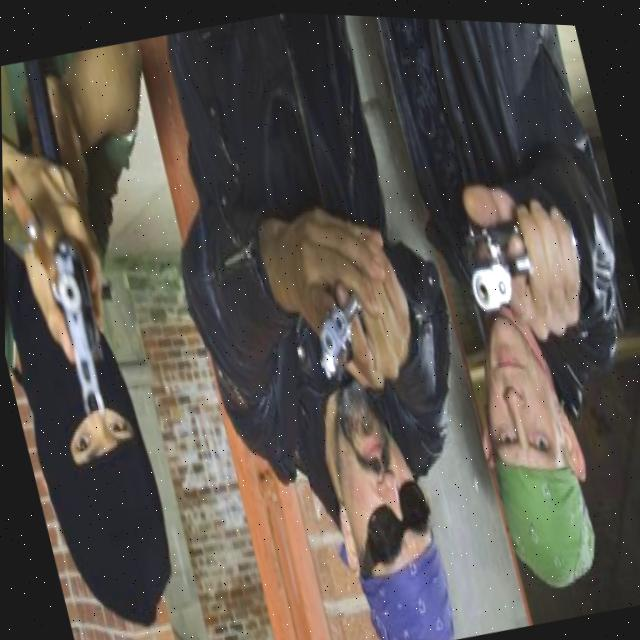firearm: (1, 53, 141, 423)
pistol: (450, 206, 543, 314), (302, 282, 378, 384)
